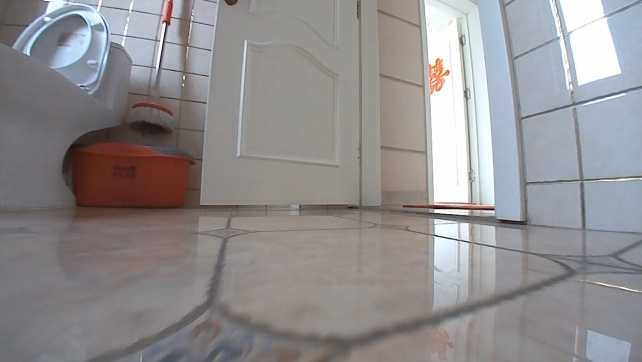door_anno: (195, 0, 365, 207)
toilet: (0, 1, 135, 215)
